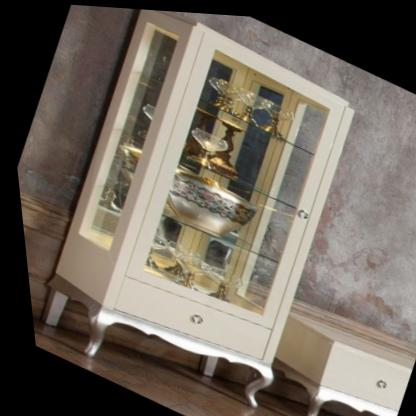Cupboard: (0, 0, 392, 416)
